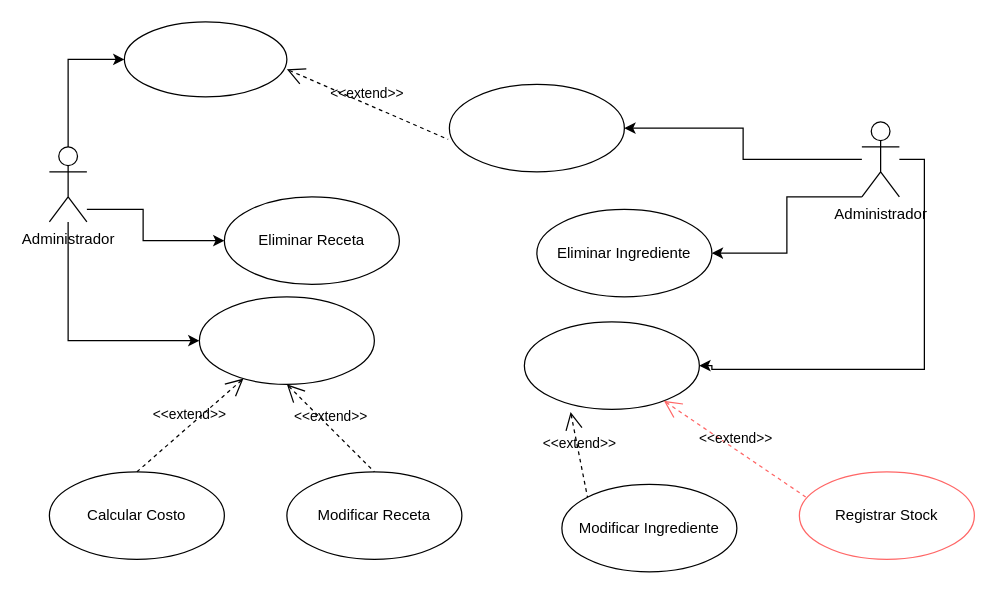
The diagram is 996 pixels wide and 594 high, and some of its shapes have lost their labels. The centre of each missing label's shape, as x and y in pixels:
"Consultar Ingrediente" goes at (611,365).
"Consultar Receta" goes at (286,340).
"Registrar Ingrediente" goes at (536,127).
"Registrar Receta" goes at (205,59).
